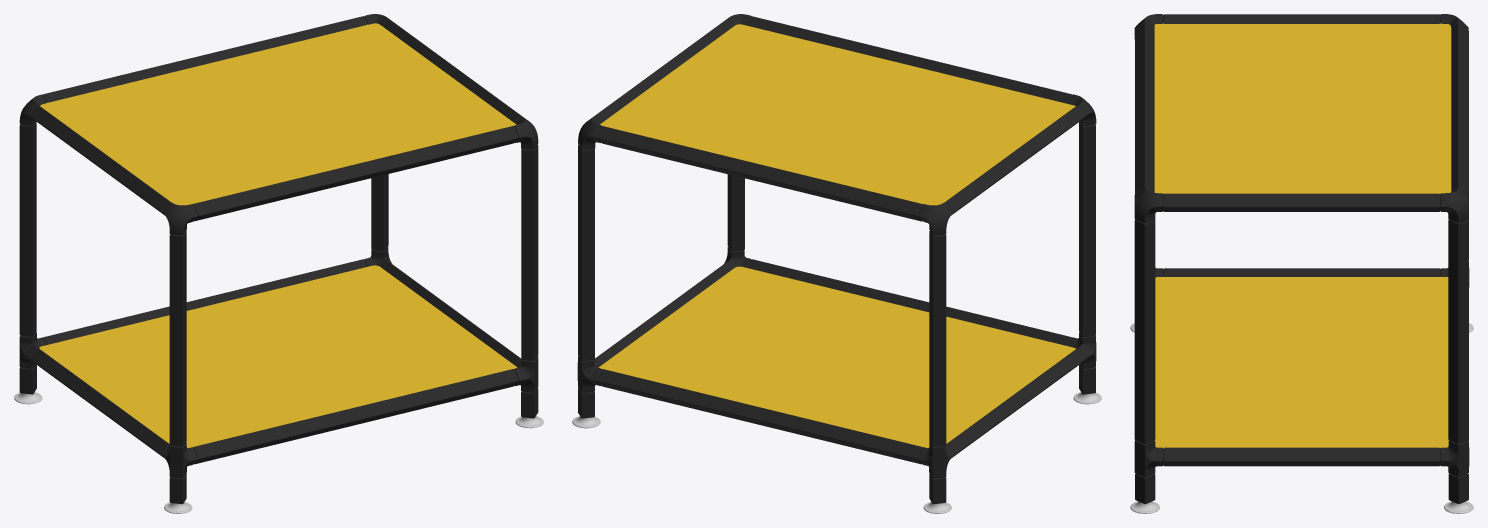
3 views of the same model, side by side, from view 1: azimuth 30°, elevation 25°; view 2: azimuth 150°, elevation 25°; view 3: azimuth 270°, elevation 25° (orthographic). The views are drawn at different scales.
Visible parts, largest first — view 1: 523x374x329; view 2: 523x374x329; view 3: 523x374x329.
Part boxes in pixels (x1=…): 523x374x329: x1=14, y1=14, x2=543, y2=513; 523x374x329: x1=572, y1=14, x2=1101, y2=513; 523x374x329: x1=1130, y1=14, x2=1473, y2=513.
Size of the model in its own units: 0.6129 by 0.4683 by 0.4632.
